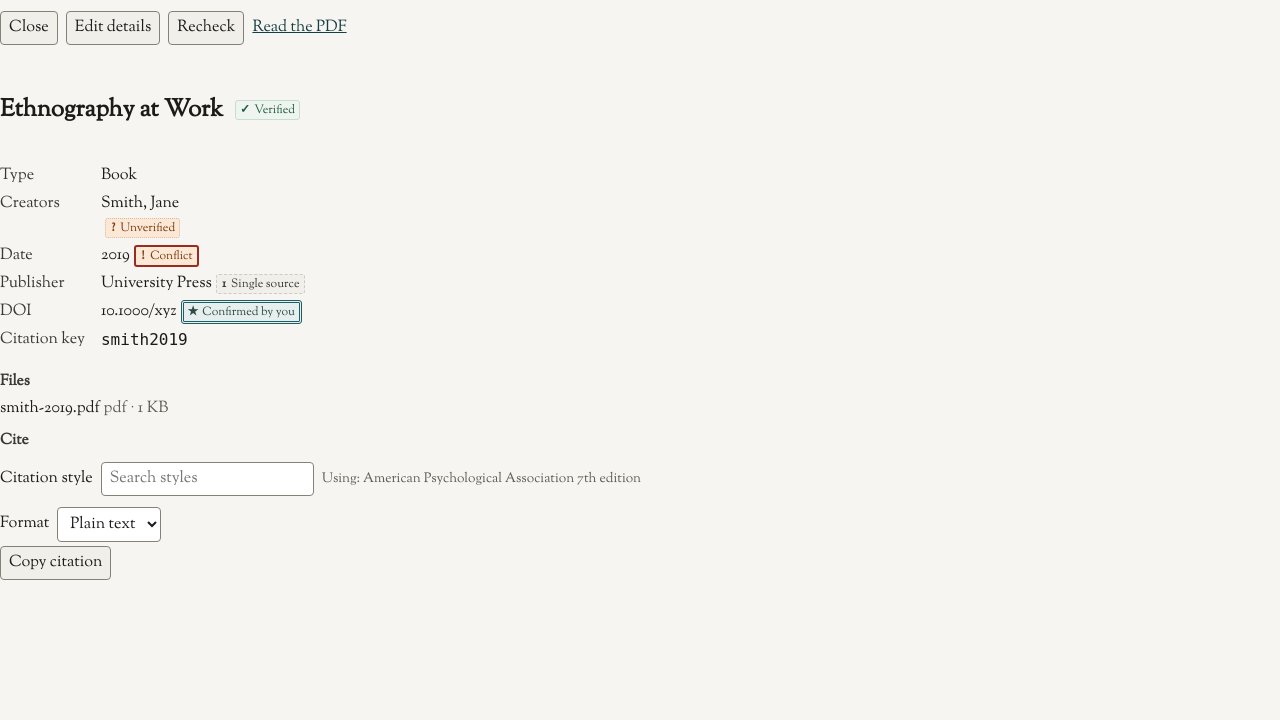
Test: SourceDetail: verification (Task 34d) › a confirm the service refuses is explained in plain words; the popover and the choice stay
Click the button with aria-label "Publication date: Conflict": (166, 256) [134,245,198,267]
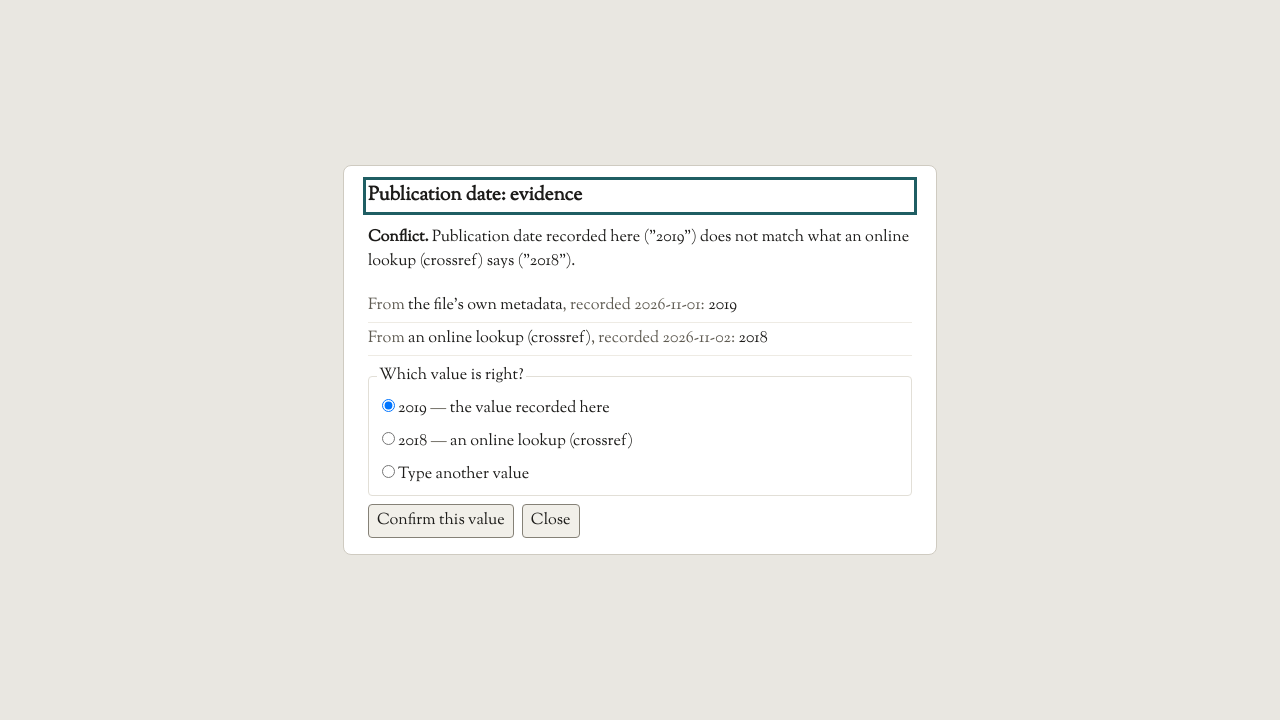
Click the radio button labelled "2018 — an online lookup (crossref)": (388, 439) [382,432,395,445]
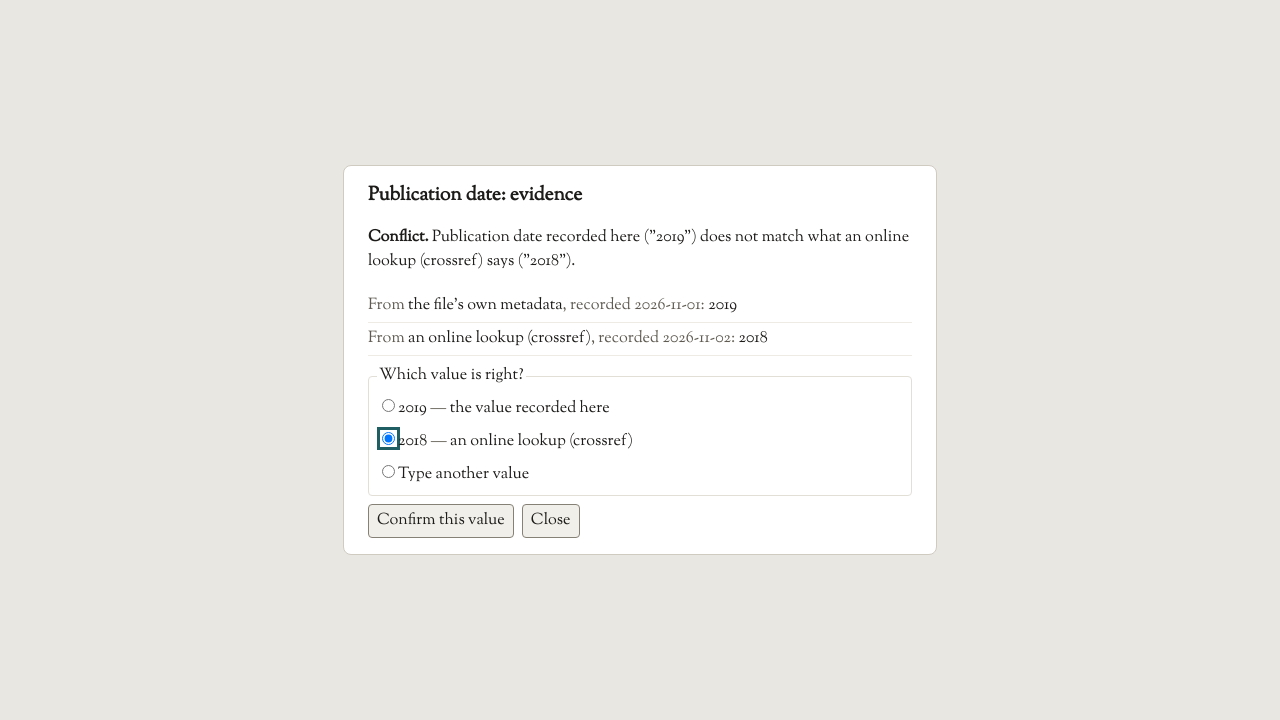
Click the button "Confirm this value": (441, 521) [368,504,514,538]
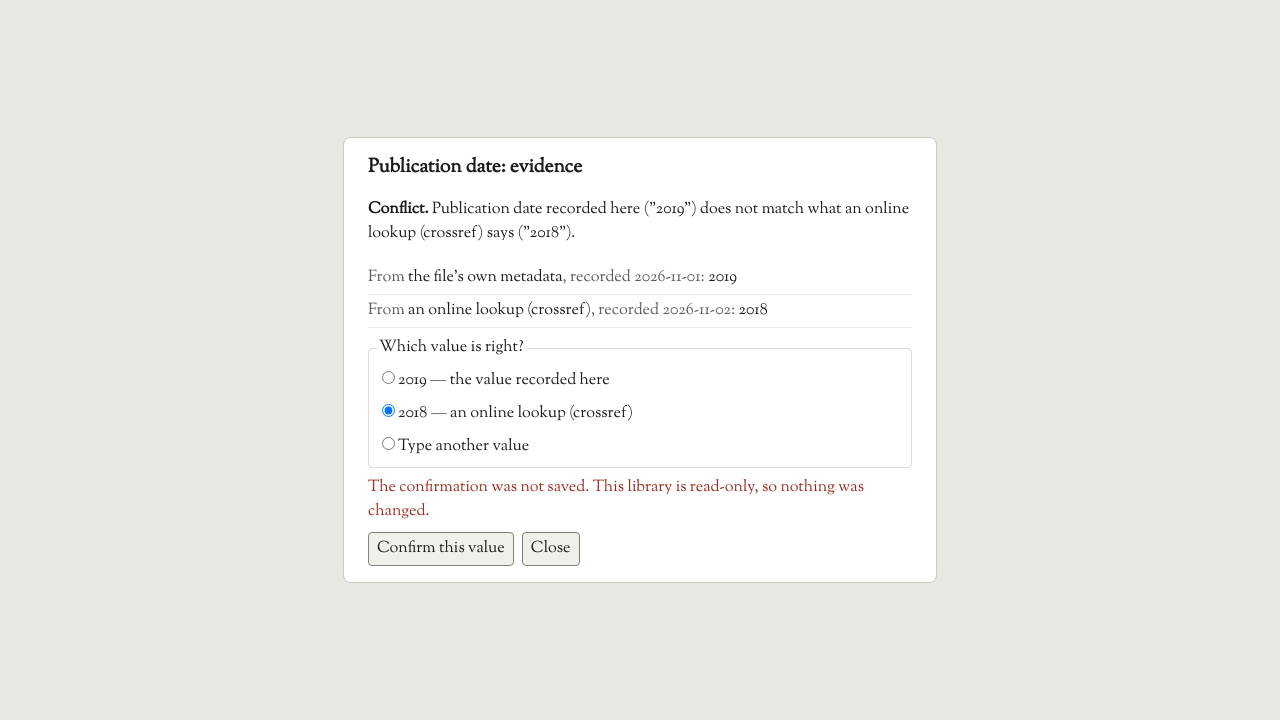
Now the radio button labelled "2018 — an online lookup (crossref)" is checked, box [382,404,395,417]
Now the message shows "This library is read-only, so nothing was changed.", box [368,476,864,523]
